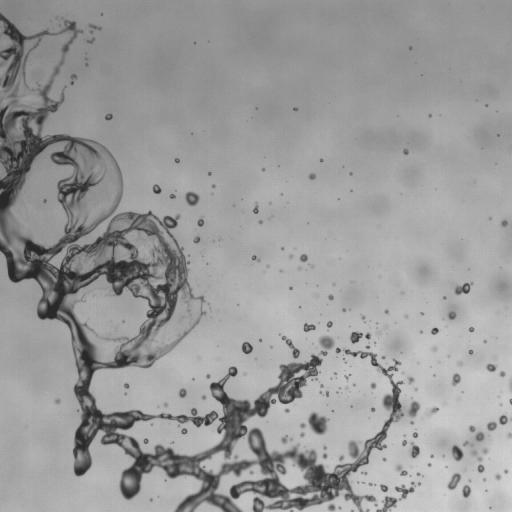droplet: (300, 412, 328, 435), (185, 191, 199, 206), (447, 473, 460, 489), (408, 400, 420, 417), (454, 283, 472, 294), (451, 445, 463, 461), (410, 442, 419, 458), (350, 332, 363, 343), (242, 341, 252, 354), (452, 373, 460, 385), (462, 485, 470, 497), (486, 422, 497, 430), (499, 415, 508, 424), (475, 432, 484, 441), (153, 184, 161, 194), (428, 406, 438, 414), (304, 324, 315, 331), (486, 364, 496, 371), (281, 435, 289, 443), (179, 388, 186, 397), (448, 311, 455, 319), (477, 464, 484, 472), (300, 254, 307, 261), (380, 484, 387, 491), (197, 218, 203, 226), (253, 204, 258, 213), (178, 315, 185, 321), (431, 328, 438, 334), (408, 376, 414, 383), (309, 173, 315, 179), (501, 220, 507, 226), (370, 382, 376, 388), (469, 425, 475, 431), (181, 428, 187, 434), (105, 114, 112, 119), (194, 236, 199, 243), (327, 321, 332, 328), (365, 333, 370, 339), (71, 74, 76, 79), (403, 149, 408, 154), (328, 295, 333, 300), (500, 371, 505, 376), (124, 383, 129, 388), (482, 448, 487, 453), (322, 453, 327, 458), (495, 474, 500, 479), (169, 194, 175, 198), (463, 441, 469, 445), (339, 455, 343, 461), (88, 39, 93, 43), (469, 327, 474, 331), (432, 347, 437, 351), (468, 350, 473, 354), (55, 399, 60, 403), (413, 432, 417, 437), (143, 439, 148, 443), (402, 440, 406, 445), (175, 158, 179, 162), (79, 297, 83, 301), (206, 374, 210, 378), (345, 375, 349, 379), (285, 408, 289, 412), (508, 433, 511, 438), (458, 361, 461, 365), (325, 391, 328, 395), (202, 395, 205, 399), (371, 408, 375, 411), (300, 433, 304, 436), (43, 199, 46, 202), (385, 310, 388, 313), (361, 316, 364, 319), (366, 345, 369, 348), (164, 403, 167, 406), (504, 469, 507, 472), (363, 471, 366, 474), (212, 185, 215, 187), (259, 220, 261, 223), (289, 255, 292, 257), (382, 356, 384, 359), (411, 421, 413, 424), (323, 446, 326, 448), (430, 455, 433, 457), (383, 457, 385, 460), (428, 463, 430, 466), (417, 472, 419, 475), (369, 483, 372, 485), (294, 108, 296, 110), (139, 236, 141, 238), (343, 309, 345, 311), (377, 332, 379, 334), (484, 340, 486, 342)
ligament: (0, 13, 403, 511), (376, 482, 416, 511), (282, 336, 299, 358), (471, 450, 482, 462), (396, 464, 408, 475), (90, 24, 100, 29), (252, 255, 259, 261), (509, 380, 511, 390), (104, 337, 108, 340), (509, 398, 511, 404), (0, 98, 2, 103), (350, 510, 353, 511)
